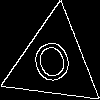O: (28, 37, 79, 96)
